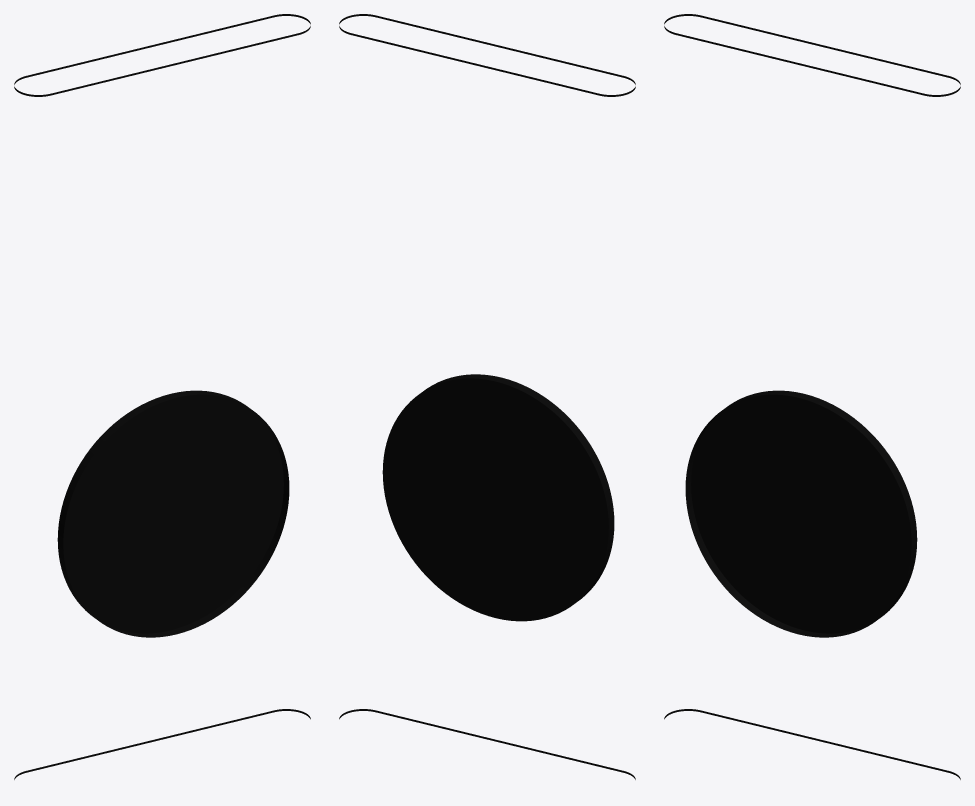
File: nano_well.obj
3 renders of one model, left to right at view 1: azimuth 30°, elevation 25°; view 2: azimuth 150°, elevation 25°; view 3: azimuth 330°, elevation 25°, orthographic.
Size of the model in its own units: 0.0392 by 0.09 by 0.0061.
1 material, 1 textured.
